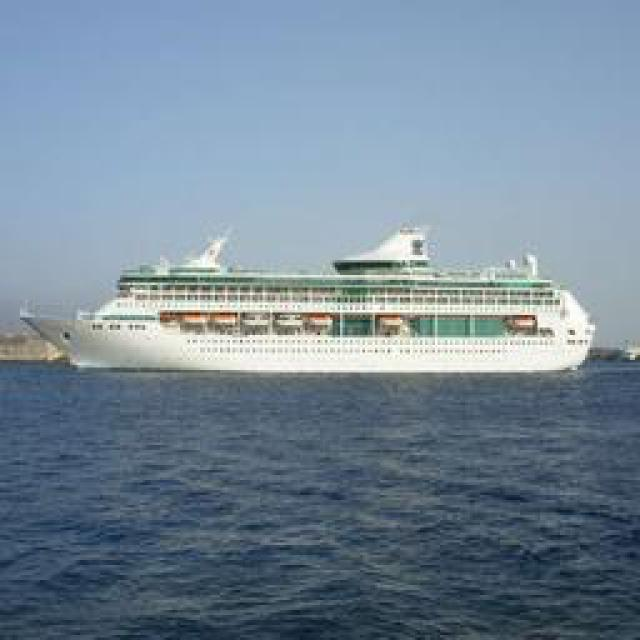Ship: (24, 257, 594, 380)
